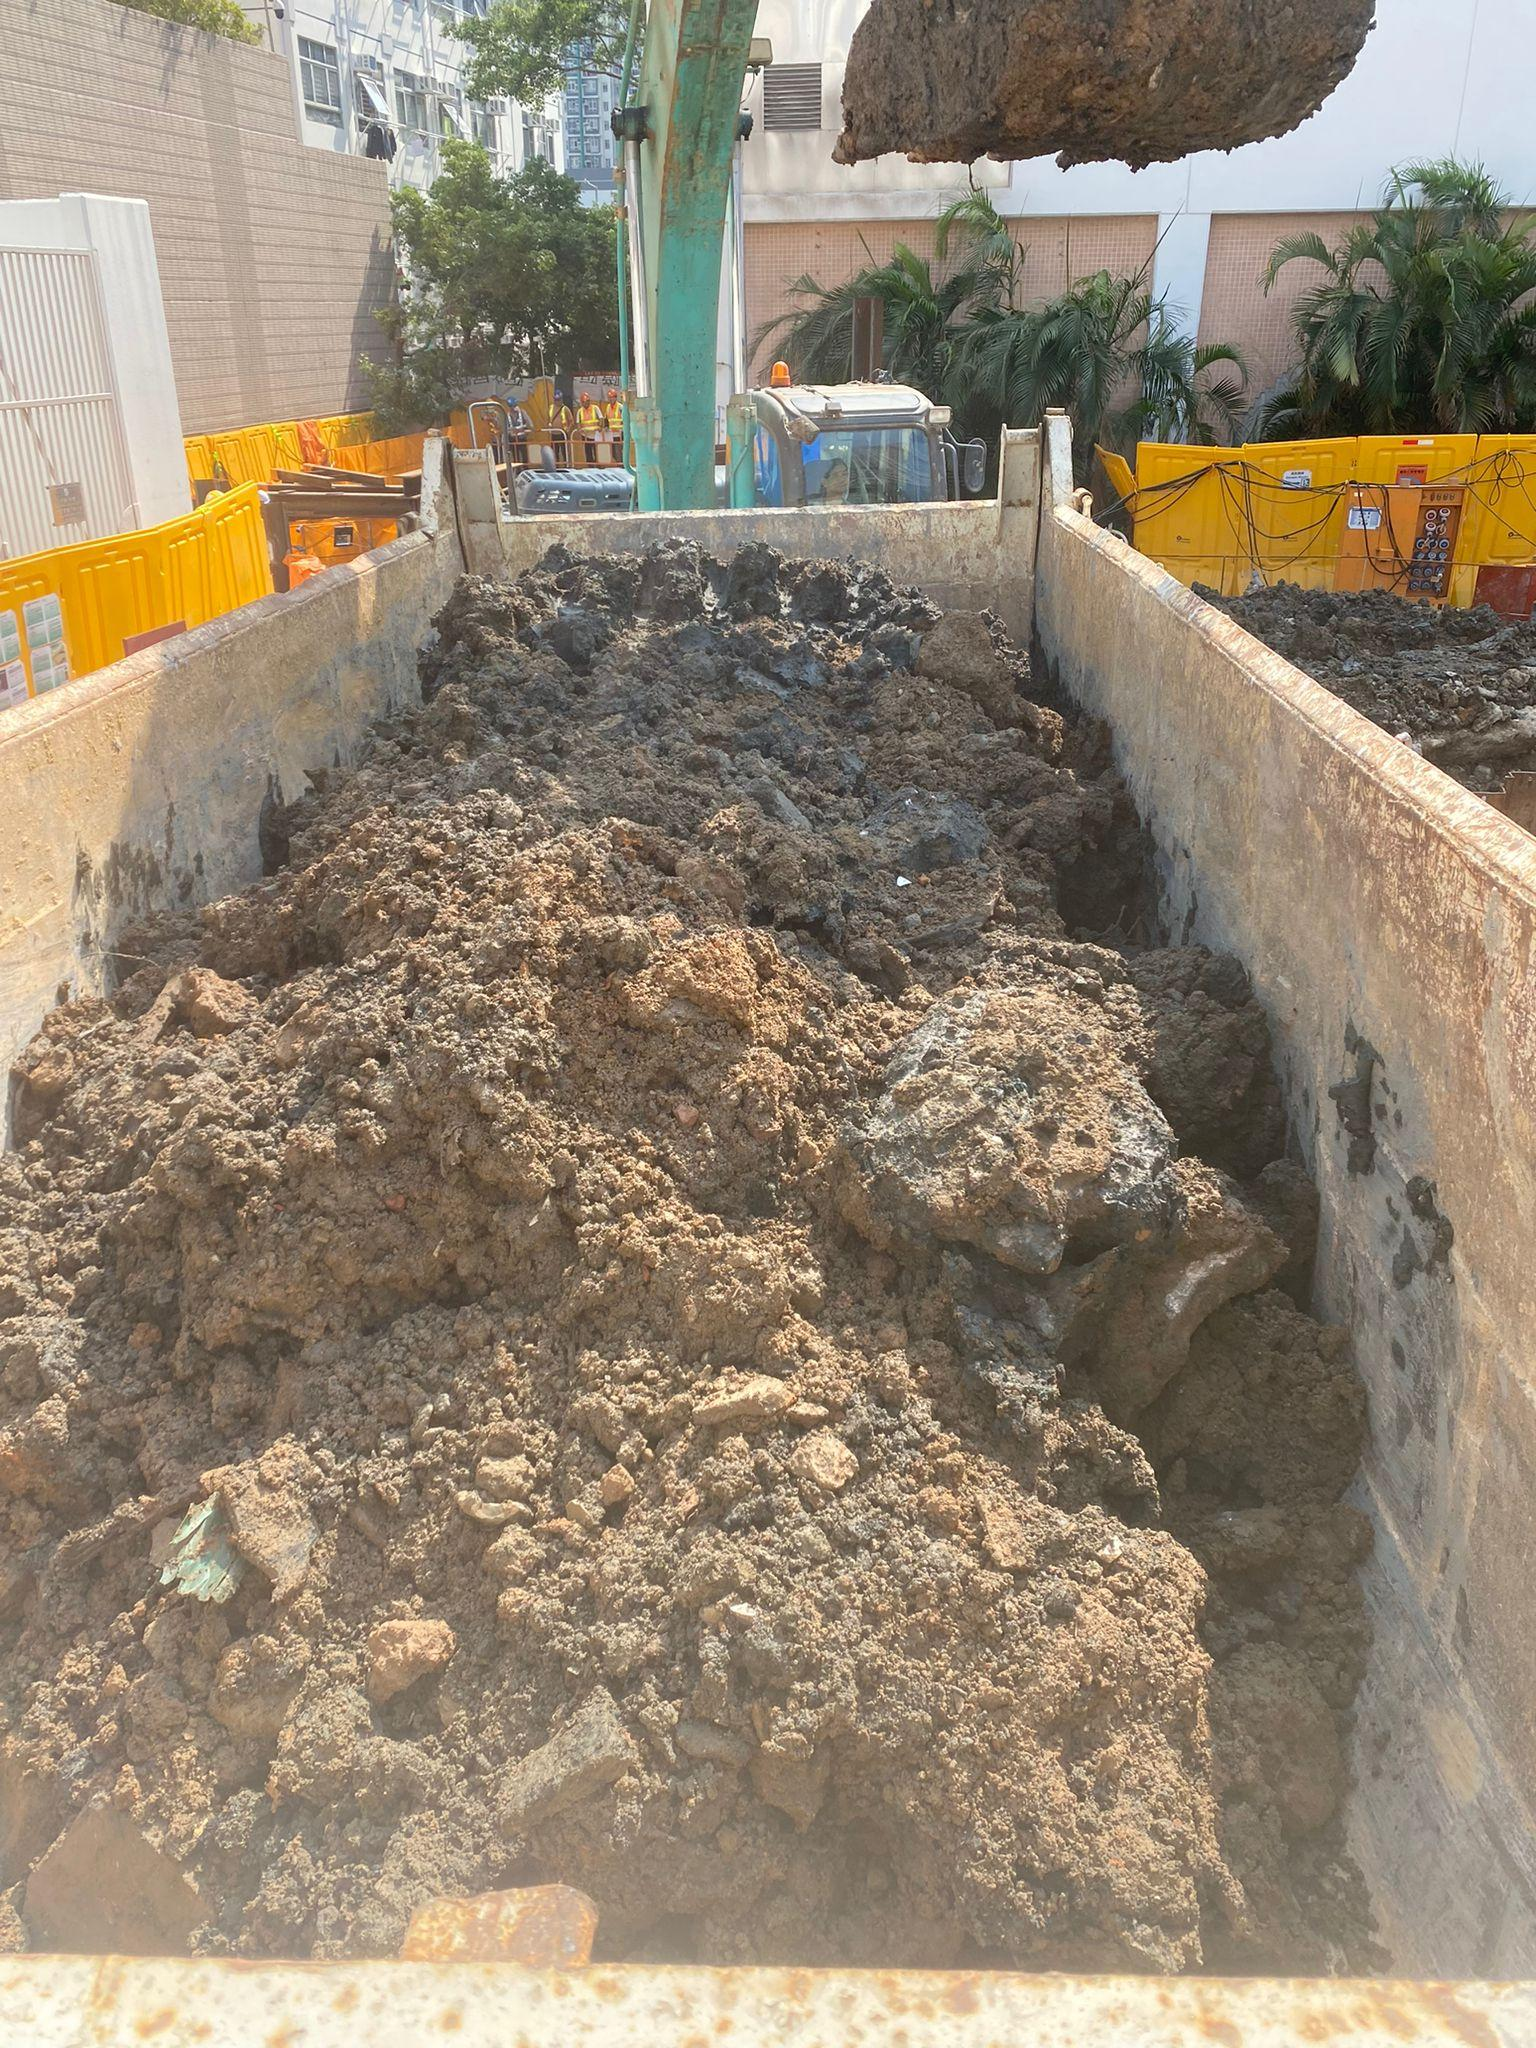dry: (0, 580, 1390, 2000)
